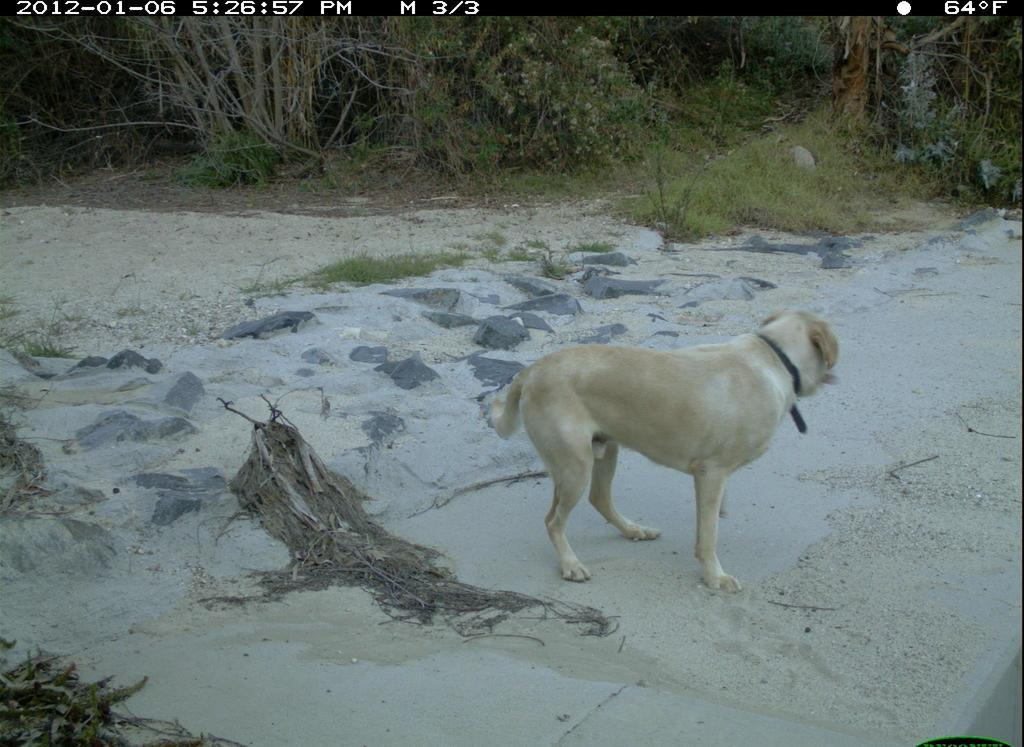dog: (482, 303, 888, 629)
